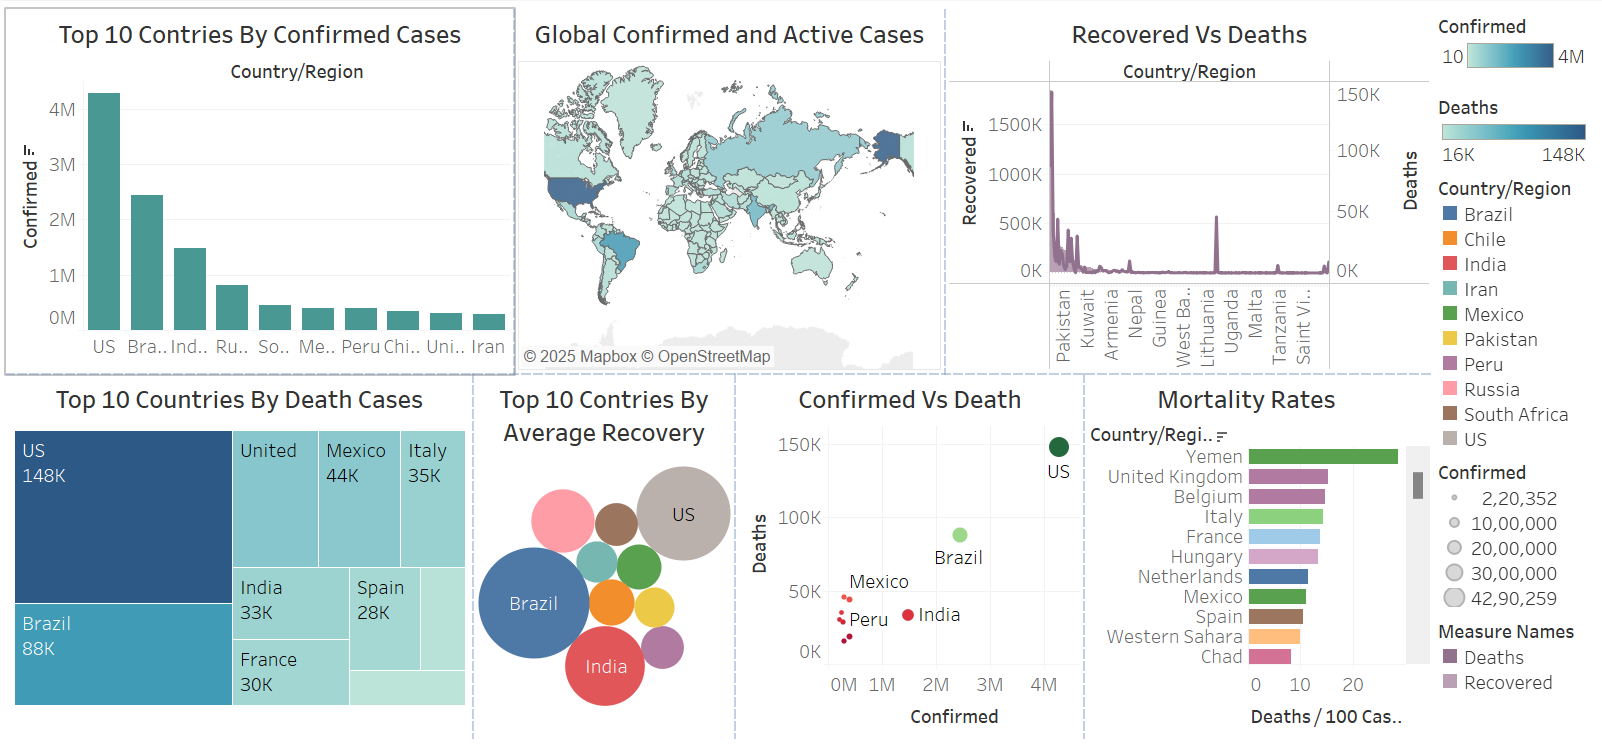

The page's visual inventory and layout, read from the dashboard file:
{"tool":"tableau","page":{"name":"Dashboard 1","canvas":[1000,1000],"units":"permille","ordinal":0},"visuals":[{"type":"worksheet","title":"Top 10 Confirmed Contries","mark":"Automatic","rows":["Confirmed"],"cols":["Country/Region"],"box":[5,10.7,316.7,489.2]},{"type":"worksheet","title":"Global Cases","mark":"Automatic","box":[321.7,10.7,268.7,489.2]},{"type":"worksheet","title":"Dual Axis","mark":"Line","rows":["Recovered","Deaths"],"cols":["Country/Region"],"box":[590.4,10.7,304.9,489.2]},{"type":"legend","title":"Global Cases","param":"[federated.0i2a9ei1akcye912udiyp1rzzynm].[sum:Confirmed:qk]","box":[895.3,10.7,99.8,108.6]},{"type":"legend","title":"Death Cases","param":"[federated.0i2a9ei1akcye912udiyp1rzzynm].[sum:Deaths:qk]","box":[895.3,119.3,99.8,108.6]},{"type":"legend","title":"Recovery Cases","param":"[federated.0i2a9ei1akcye912udiyp1rzzynm].[none:Country/Region:nk]","box":[895.3,227.9,99.8,380.7]},{"type":"worksheet","title":"Death Cases","mark":"Automatic","box":[5,500,291.1,489.3]},{"type":"worksheet","title":"Recovery Cases","mark":"Circle","box":[296.1,500,163.3,489.3]},{"type":"worksheet","title":"Confirmed Vs Death","mark":"Circle","rows":["Deaths"],"cols":["Confirmed"],"box":[459.4,500,217.9,489.3]},{"type":"worksheet","title":"Mortality Rate","mark":"Automatic","rows":["Country/Region"],"cols":["Deaths / 100 Cases"],"box":[677.3,500,217.9,489.3]},{"type":"legend","title":"Confirmed Vs Death","param":"[federated.0i2a9ei1akcye912udiyp1rzzynm].[sum:Confirmed:qk]","box":[895.3,608.6,99.8,213.1]},{"type":"legend","title":"Dual Axis","param":"[federated.0i2a9ei1akcye912udiyp1rzzynm].[:Measure Names]","box":[895.3,821.7,99.8,112.6]}]}

Visuals, with their boxes on the dashboard's canvas, which has no fixed pixel size, in thousandths of its width and height (x1, y1, x2, y2). These are canvas units, not pixel positions in the 1602x745 screenshot, which may show the page scaled, cropped or inside an application window:
"Top 10 Confirmed Contries" worksheet: <region>5, 11, 322, 500</region>
"Global Cases" worksheet: <region>322, 11, 590, 500</region>
"Dual Axis" worksheet (Line marks): <region>590, 11, 895, 500</region>
"Global Cases" legend: <region>895, 11, 995, 119</region>
"Death Cases" legend: <region>895, 119, 995, 228</region>
"Recovery Cases" legend: <region>895, 228, 995, 609</region>
"Death Cases" worksheet: <region>5, 500, 296, 989</region>
"Recovery Cases" worksheet (Circle marks): <region>296, 500, 459, 989</region>
"Confirmed Vs Death" worksheet (Circle marks): <region>459, 500, 677, 989</region>
"Mortality Rate" worksheet: <region>677, 500, 895, 989</region>
"Confirmed Vs Death" legend: <region>895, 609, 995, 822</region>
"Dual Axis" legend: <region>895, 822, 995, 934</region>
